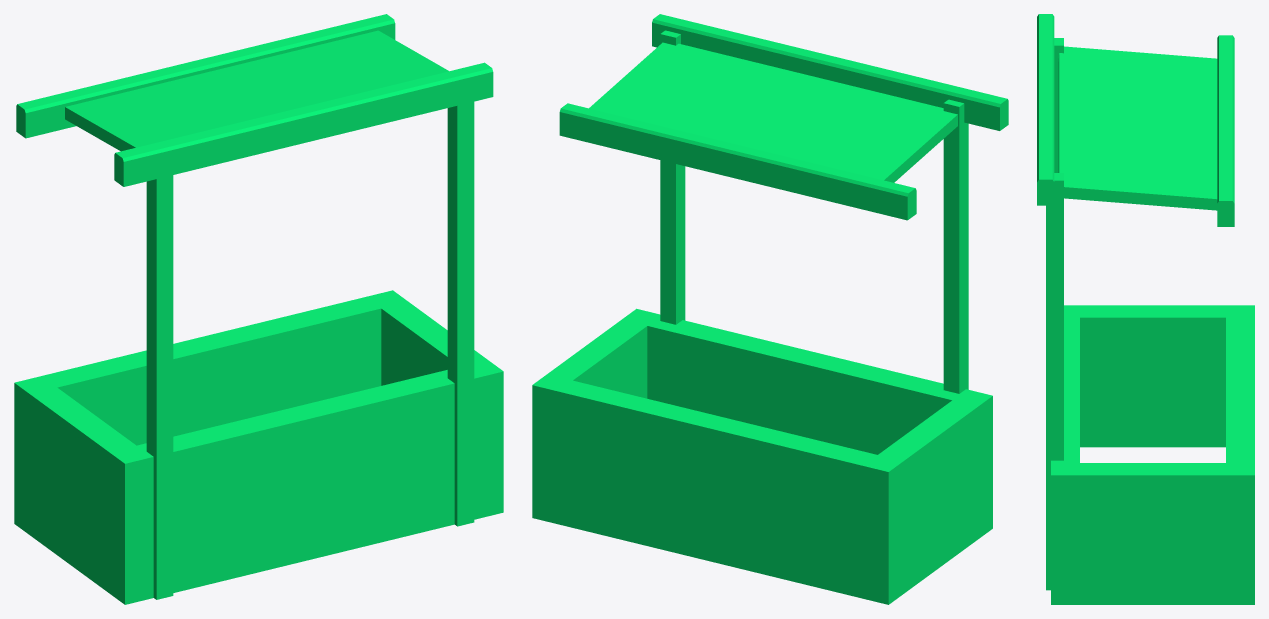
The model's file is StoreShell2_Collision.FBX.
3 renders of one model, left to right at view 1: azimuth 30°, elevation 25°; view 2: azimuth 150°, elevation 25°; view 3: azimuth 270°, elevation 25°, orthographic. The views are drawn at different scales.
Visible parts, largest first — view 1: StoreShell2_Collision; view 2: StoreShell2_Collision; view 3: StoreShell2_Collision.
Part boxes in pixels (x1,y1,x2,y2): StoreShell2_Collision: (14,14,503,604); StoreShell2_Collision: (532,14,1008,604); StoreShell2_Collision: (1037,14,1254,604).
Size of the model in its own units: 5.29 by 5.92 by 2.8.
